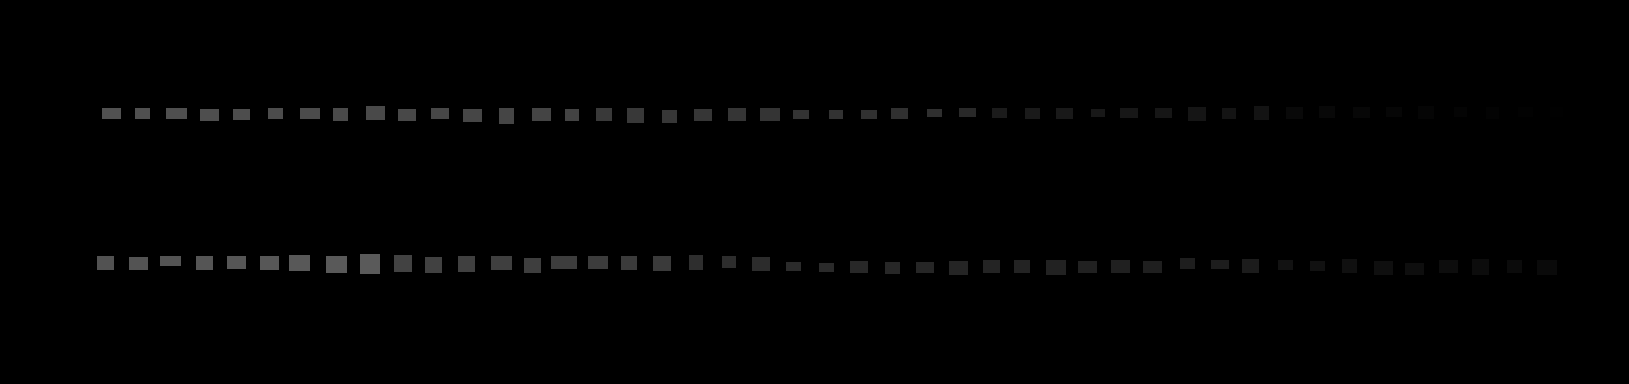light: (360, 254, 380, 274), (326, 256, 347, 273), (551, 256, 577, 269), (289, 255, 310, 271), (394, 255, 412, 272), (1537, 260, 1557, 275), (1046, 260, 1066, 275), (949, 260, 968, 275), (366, 106, 385, 120), (491, 256, 512, 270), (1374, 260, 1393, 275), (760, 108, 780, 121), (260, 256, 279, 270), (1472, 259, 1489, 275), (627, 108, 644, 124), (458, 256, 475, 272), (425, 257, 442, 273), (1189, 107, 1206, 121), (653, 256, 671, 271), (524, 258, 541, 273), (532, 108, 551, 121), (463, 109, 482, 122), (1405, 263, 1424, 275), (1111, 260, 1130, 273), (588, 256, 608, 269), (226, 256, 246, 269), (499, 108, 514, 124), (1241, 259, 1259, 273), (752, 257, 770, 271), (728, 108, 746, 121), (97, 256, 114, 270), (166, 108, 187, 119), (1439, 260, 1458, 273), (1143, 260, 1161, 273), (1078, 260, 1097, 273), (201, 109, 219, 121), (129, 257, 148, 270), (300, 108, 320, 119), (196, 256, 213, 270), (983, 260, 1000, 273), (850, 260, 867, 273), (694, 109, 712, 121), (398, 109, 416, 121), (102, 108, 121, 119), (1254, 106, 1269, 120), (689, 255, 703, 270), (1418, 106, 1434, 119), (662, 110, 677, 124), (596, 108, 612, 121), (621, 256, 637, 270), (1286, 107, 1303, 119), (1353, 107, 1370, 118), (1056, 108, 1073, 119), (916, 262, 934, 273), (431, 108, 449, 119), (233, 109, 250, 120), (1342, 259, 1357, 273), (333, 108, 348, 121), (1319, 106, 1335, 118), (1014, 260, 1030, 273), (160, 256, 181, 266), (891, 108, 908, 119), (1120, 108, 1138, 118), (1507, 260, 1522, 273), (885, 262, 900, 274), (1386, 107, 1403, 117), (1155, 108, 1172, 118), (1486, 107, 1499, 119), (565, 109, 579, 121), (1222, 108, 1236, 119), (1025, 108, 1040, 119), (268, 108, 283, 119), (135, 108, 150, 119), (1518, 107, 1533, 117), (959, 108, 976, 117), (793, 110, 809, 119), (722, 256, 736, 268), (1310, 260, 1325, 271), (992, 108, 1007, 118), (1180, 258, 1195, 269), (1211, 260, 1229, 269), (1278, 260, 1293, 270), (819, 263, 834, 272), (861, 110, 877, 119), (786, 262, 801, 271), (1550, 107, 1563, 117), (1454, 107, 1467, 117), (927, 109, 942, 117), (829, 110, 843, 119), (1091, 109, 1105, 117)
